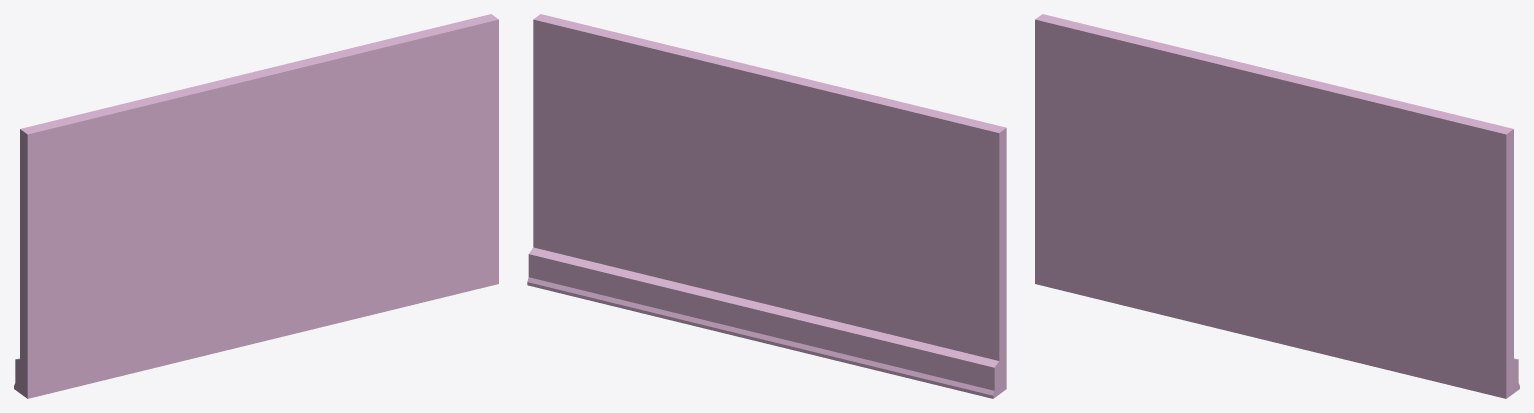
File: Wall.fbx
3 views of the same model, side by side, from view 1: azimuth 30°, elevation 25°; view 2: azimuth 150°, elevation 25°; view 3: azimuth 330°, elevation 25° (orthographic).
Visible parts, largest first — view 1: Wall; view 2: Wall; view 3: Wall.
Part boxes in pixels (<box>): Wall: <box>14,14,498,398</box>; Wall: <box>527,14,1006,398</box>; Wall: <box>1035,14,1519,398</box>.
Size of the model in its own units: 20 by 10.72 by 1.
